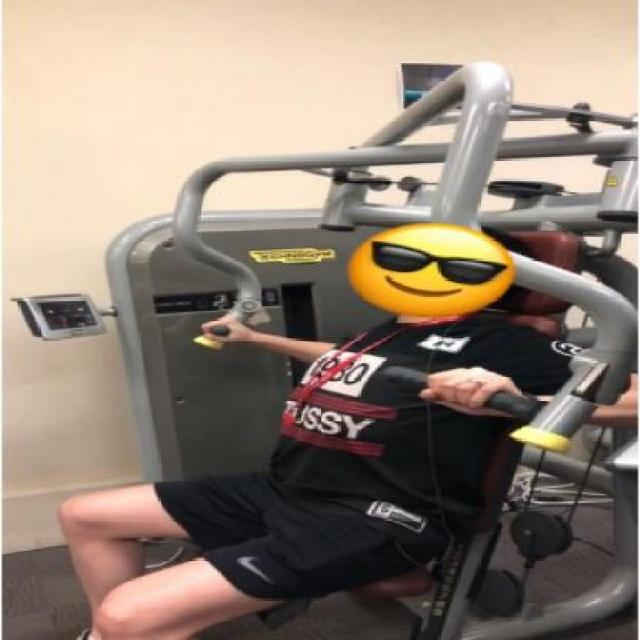Chest Press machine: (31, 51, 640, 638)
